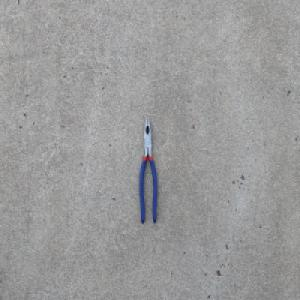Pliers: (138, 114, 158, 226)
